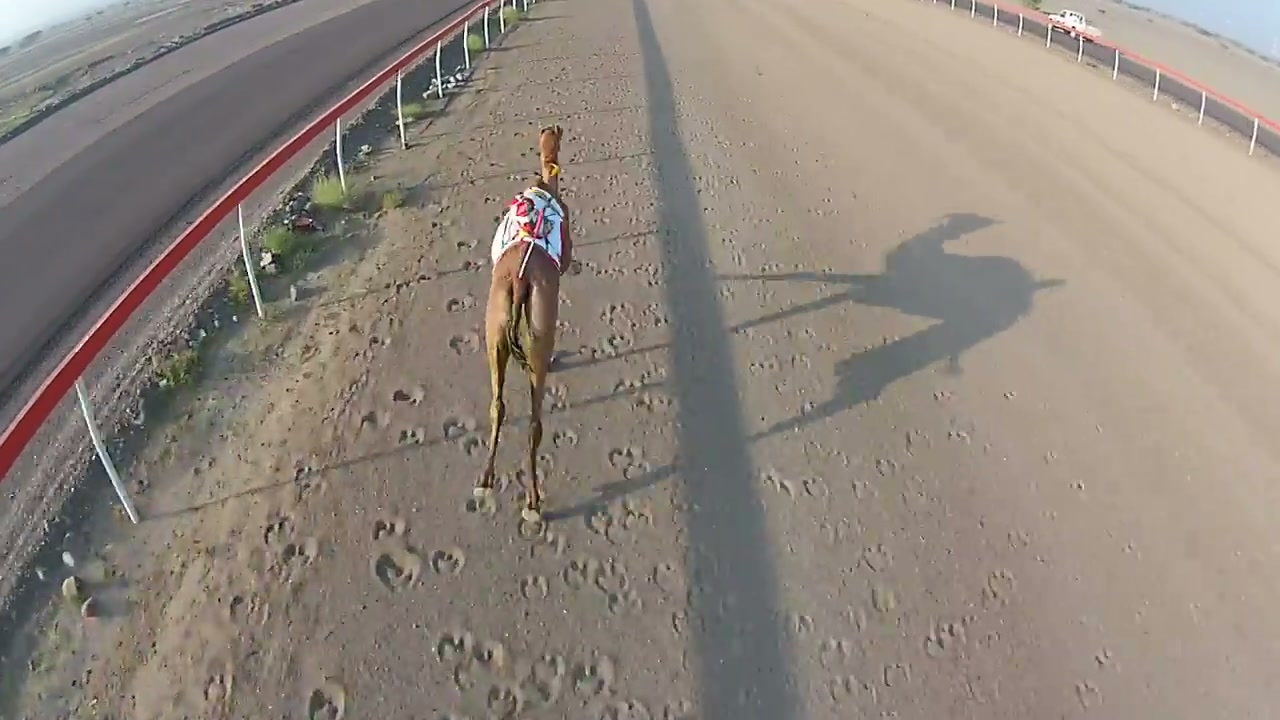animal_foot_print: (453, 641, 507, 691), (517, 654, 566, 709), (372, 542, 422, 590), (572, 653, 615, 700), (275, 537, 318, 581), (306, 680, 345, 719), (924, 622, 965, 657), (608, 447, 651, 479), (435, 630, 475, 664), (981, 569, 1015, 608), (593, 699, 655, 719), (562, 556, 599, 589), (651, 562, 686, 596), (529, 529, 568, 559), (818, 638, 854, 670), (761, 470, 796, 498), (431, 547, 465, 575), (442, 416, 478, 441), (862, 543, 892, 571), (372, 517, 407, 541), (448, 331, 482, 355), (464, 493, 497, 516), (391, 386, 425, 406), (520, 575, 548, 599), (445, 293, 475, 312), (551, 429, 578, 448)
